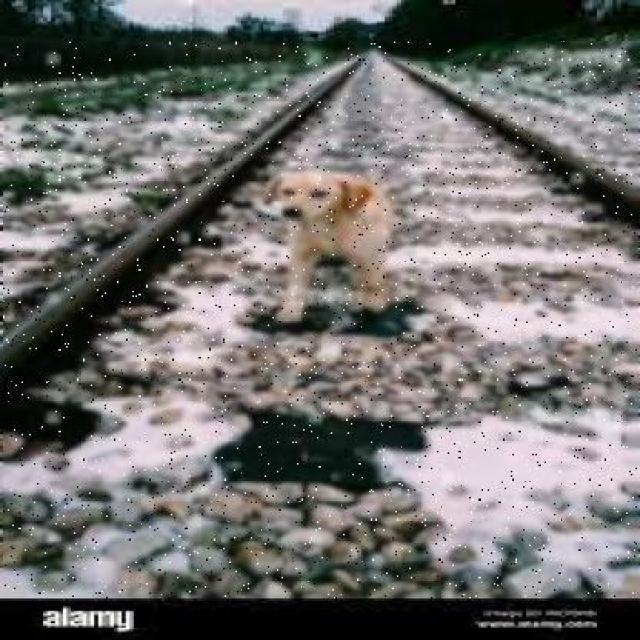rail: (5, 41, 638, 599)
